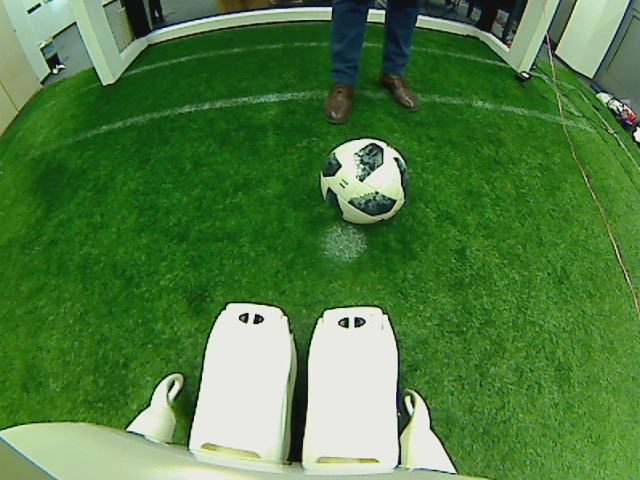ball: (323, 131, 407, 230)
